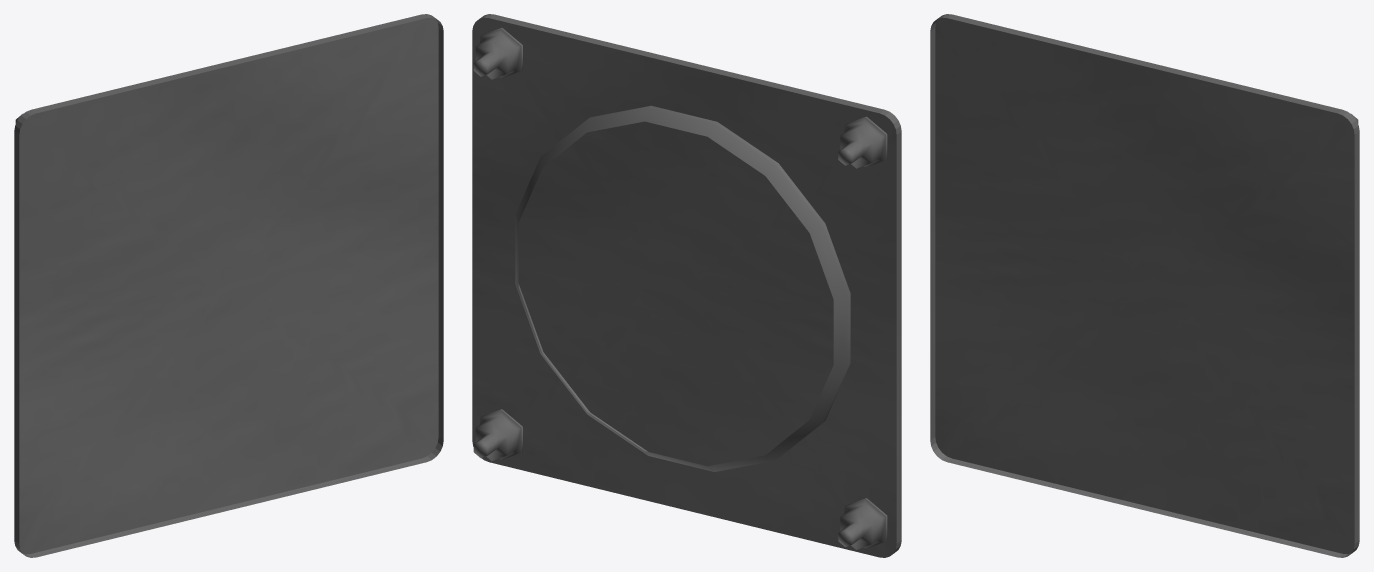
File: polebase_impact_slim.obj
3 views of the same model, side by side, from view 1: azimuth 30°, elevation 25°; view 2: azimuth 150°, elevation 25°; view 3: azimuth 330°, elevation 25° (orthographic).
Visible parts, largest first — view 1: polebase_impact_slim; view 2: polebase_impact_slim; view 3: polebase_impact_slim.
Part boxes in pixels (box(x1,y1,x2,y2)): polebase_impact_slim: box(14, 14, 443, 557); polebase_impact_slim: box(472, 14, 901, 557); polebase_impact_slim: box(930, 14, 1359, 557).
Size of the model in its own units: 1.33 by 1.33 by 0.1438.
